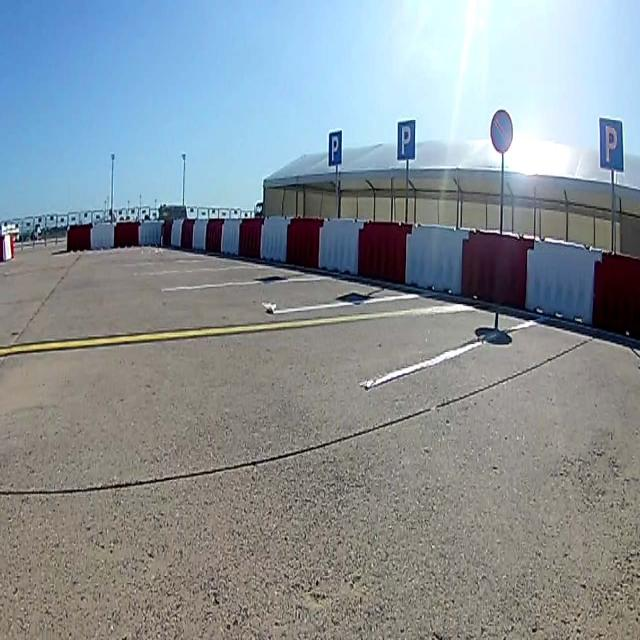park: (598, 116, 624, 168), (397, 118, 415, 158), (328, 132, 342, 164)
parkyasak: (491, 111, 514, 151)
